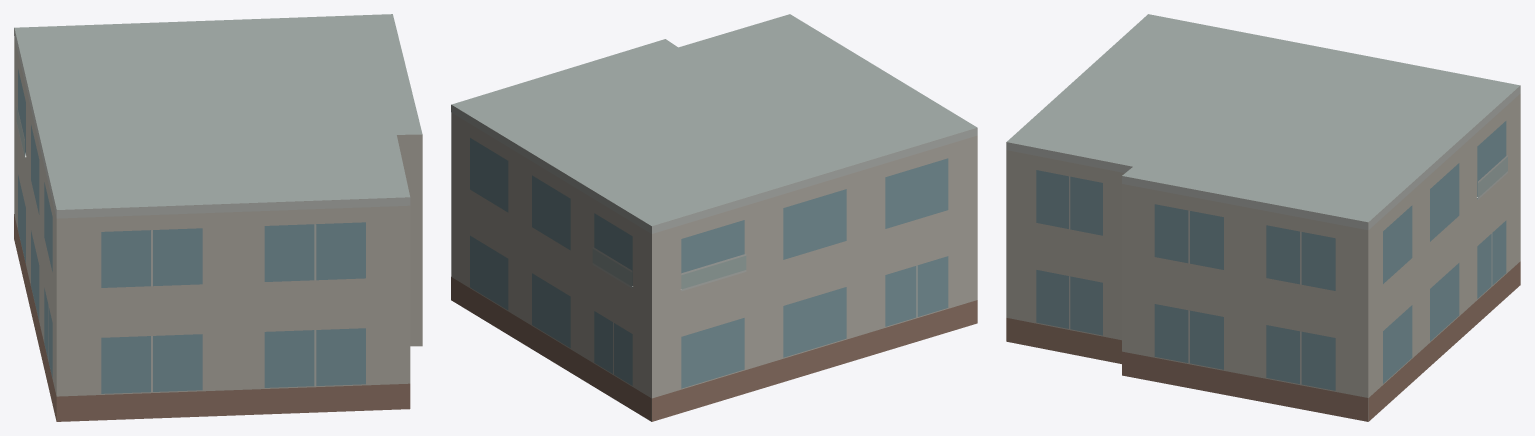
File: survey-upis-32834669.glb
3 views of the same model, side by side, from view 1: azimuth 30°, elevation 25°; view 2: azimuth 150°, elevation 25°; view 3: azimuth 270°, elevation 25° (orthographic). The views are drawn at different scales.
Visible parts, largest first — view 1: survey-upis-32834669.tmp; view 2: survey-upis-32834669.tmp; view 3: survey-upis-32834669.tmp.
Part boxes in pixels (x1=…): survey-upis-32834669.tmp: x1=14, y1=14, x2=422, y2=421; survey-upis-32834669.tmp: x1=451, y1=14, x2=977, y2=421; survey-upis-32834669.tmp: x1=1006, y1=14, x2=1520, y2=421.
Bounding box in the file's own units: 13.67 × 6.1 × 14.25.
